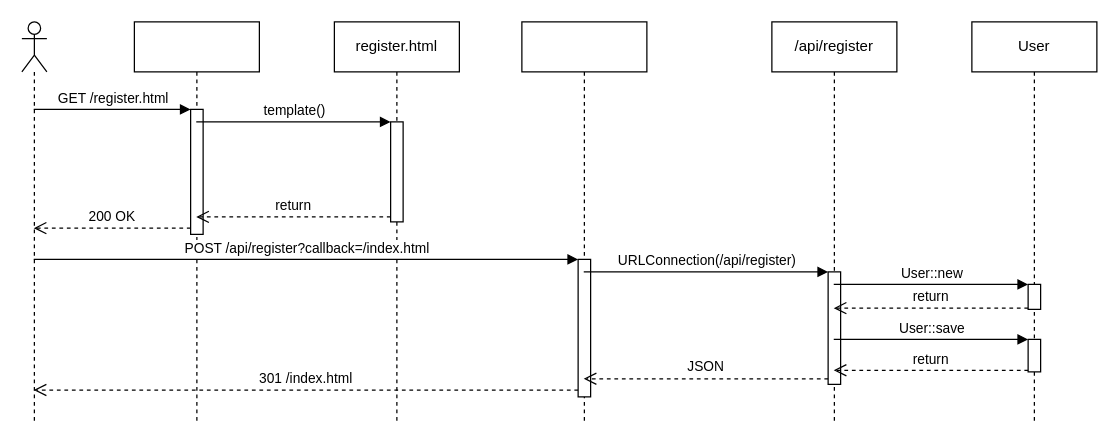
Some shapes in this 1119 by 444 pixel diagram are drawn without their labels. Each missing label, with the centre of its shape:
"/registerUser" goes at point 584,221.
"TemplatedServlet" goes at point 196,221.
